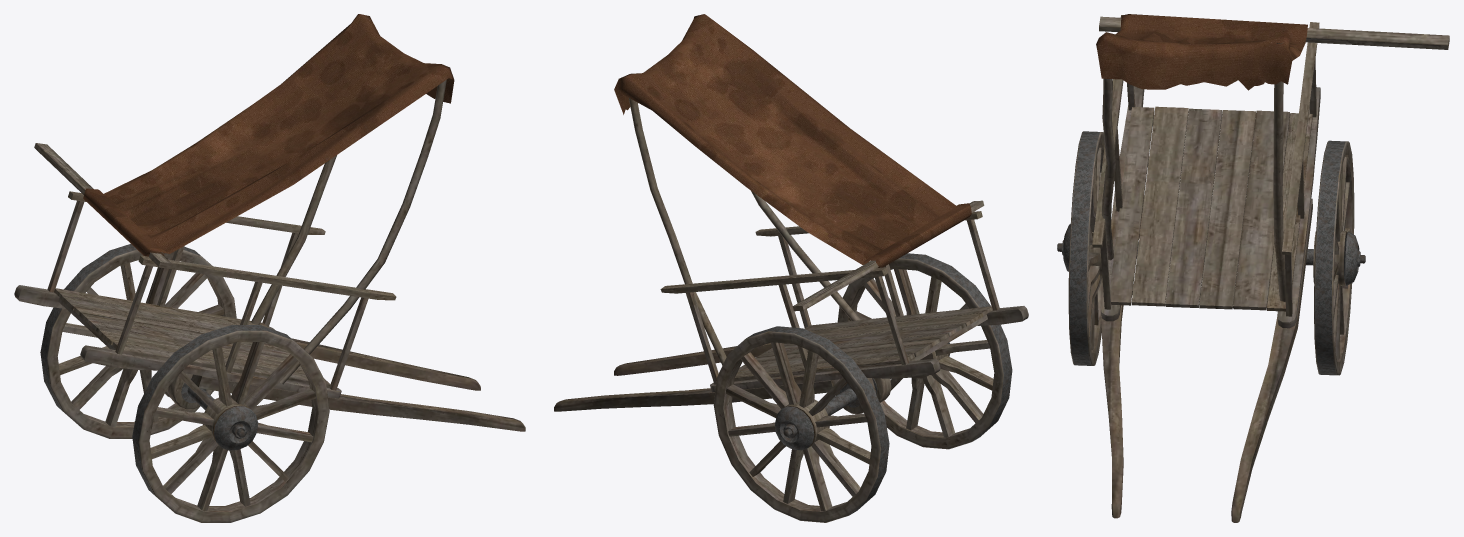
File: Wooden_Cart.glb
3 renders of one model, left to right at view 1: azimuth 30°, elevation 25°; view 2: azimuth 150°, elevation 25°; view 3: azimuth 270°, elevation 25°, orthographic. The views are drawn at different scales.
Parts seen in each view (by area): view 1: SM_Wooden_Cart; view 2: SM_Wooden_Cart; view 3: SM_Wooden_Cart.
Part boxes in pixels (x1,y1,x2,y2): SM_Wooden_Cart: (14,14,525,522); SM_Wooden_Cart: (554,14,1028,522); SM_Wooden_Cart: (1057,14,1449,522).
Size of the model in its own units: 3.86 by 3.29 by 2.64.
3 materials, 3 textured.
